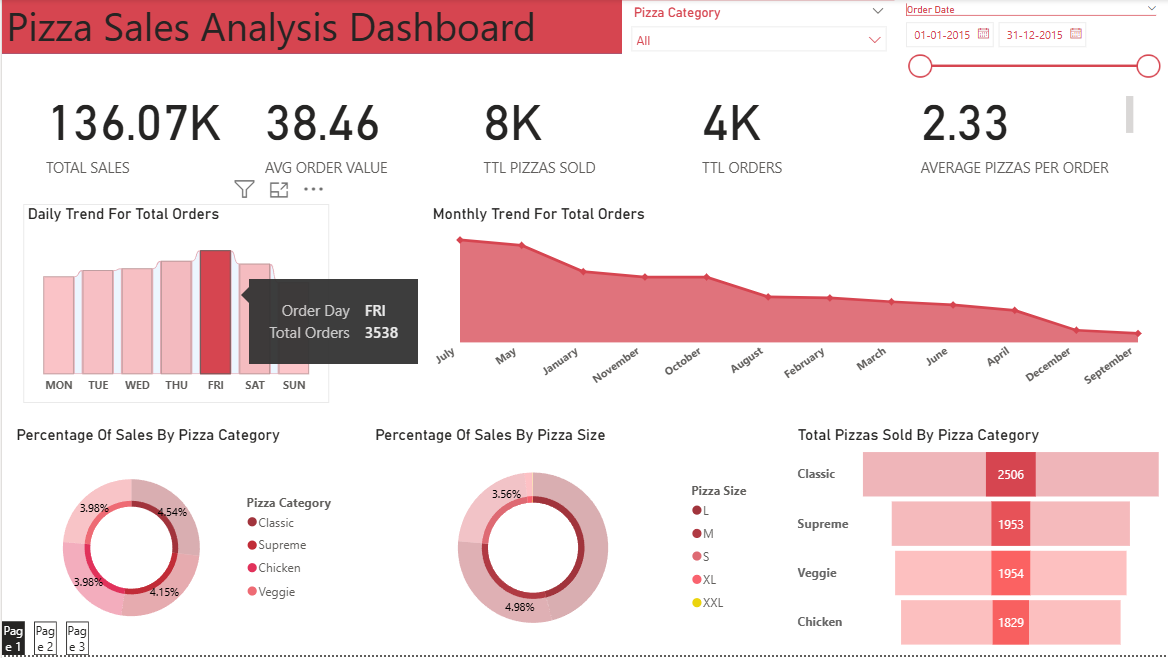

Layout of this report page (visuals, bound fields, positions):
{"tool":"powerbi","page":{"name":"Page 1","canvas":[1280,720],"ordinal":0},"visuals":[{"type":"shape","box":[0,0,1280.3,60.4],"z":0},{"type":"textbox","box":[0,0,680,60],"z":1000},{"type":"cardVisual","fields":{"Data":["order_details.TTL REVENUE","order_details.AVG ORDER VALUE","order_details.TTL PIZZAS SOLD","Query11.TTL ORDERS","order_details.AVERAGE PIZZAS PER ORDER","pizza_sales.TOTAL PROFIT","customers.CUSTOMER COUNT"]},"box":[32,87.7,1215.6,119.7],"z":2000},{"type":"columnChart","title":"Daily Trend For Total Orders","fields":{"Category":["pizza_sales.Order Day"],"Y":["pizza_sales.Total Orders"]},"box":[22.9,225.7,337.1,217.1],"z":3000},{"type":"areaChart","title":"Monthly Trend For Total Orders","fields":{"Category":["pizza_sales.Month Name"],"Y":["Query11.TTL ORDERS"]},"box":[468.6,225.7,811.4,217.1],"z":4000},{"type":"donutChart","title":"Percentage Of Sales By Pizza Category","fields":{"Category":["Query8.pizza_category"],"Y":["order_details.TTL REVENUE"]},"box":[11.4,468.6,371.4,250],"z":5000},{"type":"funnel","title":"Total Pizzas Sold By Pizza Category","fields":{"Category":["Query8.pizza_category"],"Y":["order_details.TTL PIZZAS SOLD"]},"box":[868.6,468.6,411.4,251.4],"z":6000},{"type":"donutChart","title":"Percentage Of Sales By Pizza Size","fields":{"Y":["pizza_sales.Total Revenue"],"Category":["pizza_sales.pizza_size"]},"box":[404.3,468.6,435.7,250],"z":7000},{"type":"slicer","fields":{"Values":["pizza_sales.pizza_category"]},"box":[680,1.4,300,61.4],"z":8000},{"type":"slicer","fields":{"Values":["pizza_sales.order_date"]},"box":[980,0,300,105.7],"z":9000},{"type":"pageNavigator","box":[0,682.9,95.7,37.1],"z":10000}]}

Visuals, with their boxes on the page's 1280x720 design canvas (x1, y1, x2, y2). These are canvas units, not pixel positions in the 1168x658 screenshot, which may show the page scaled, cropped or inside an application window:
shape: l=0, t=0, r=1280, b=60
textbox: l=0, t=0, r=680, b=60
cardVisual - order_details.TTL REVENUE x order_details.AVG ORDER VALUE: l=32, t=88, r=1248, b=207
"Daily Trend For Total Orders" columnChart: l=23, t=226, r=360, b=443
"Monthly Trend For Total Orders" areaChart: l=469, t=226, r=1280, b=443
"Percentage Of Sales By Pizza Category" donutChart: l=11, t=469, r=383, b=719
"Total Pizzas Sold By Pizza Category" funnel: l=869, t=469, r=1280, b=720
"Percentage Of Sales By Pizza Size" donutChart: l=404, t=469, r=840, b=719
slicer - pizza_sales.pizza_category: l=680, t=1, r=980, b=63
slicer - pizza_sales.order_date: l=980, t=0, r=1280, b=106
pageNavigator: l=0, t=683, r=96, b=720
